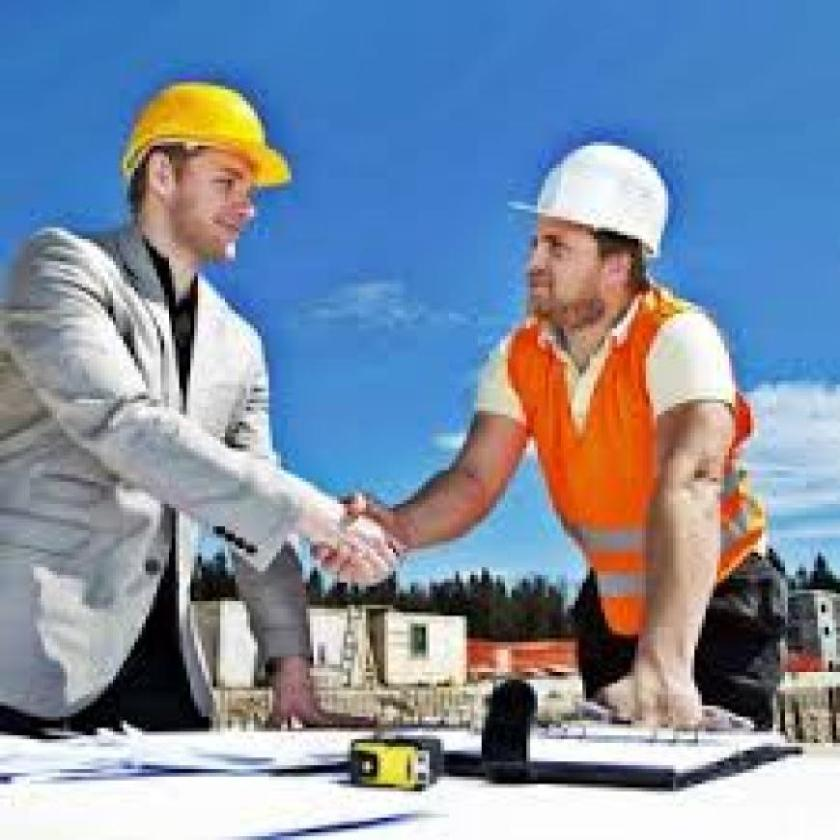Con_casco: (123, 78, 297, 288), (521, 136, 682, 351)
